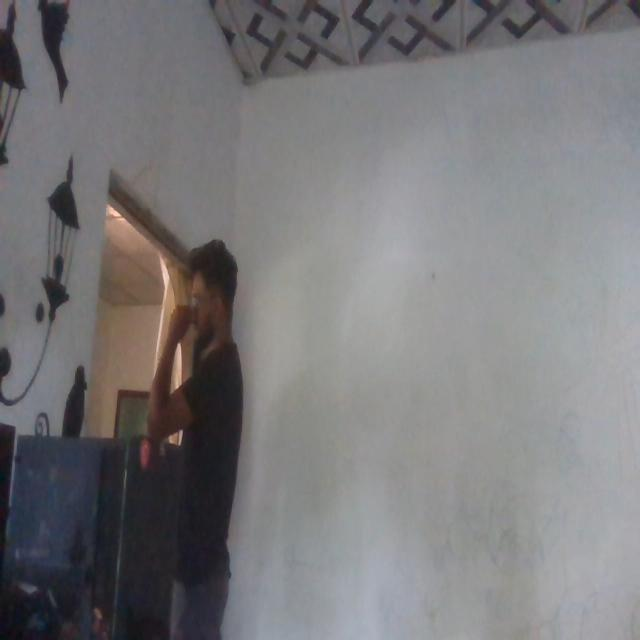Person: (156, 242, 256, 640)
